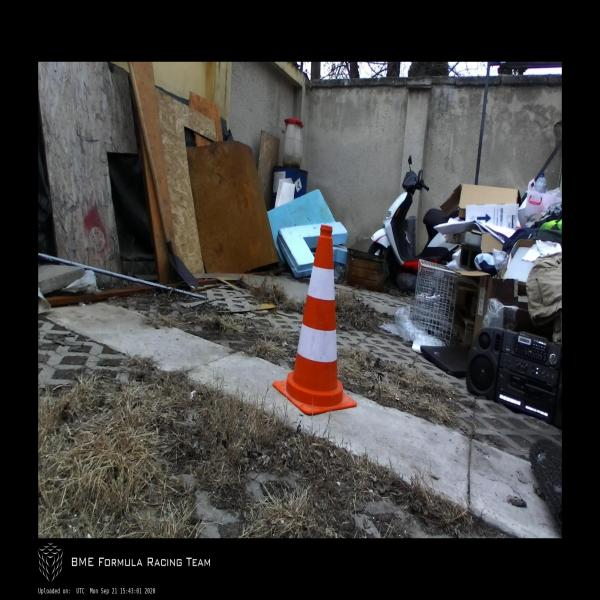large_orange_cone: (274, 224, 356, 416)
